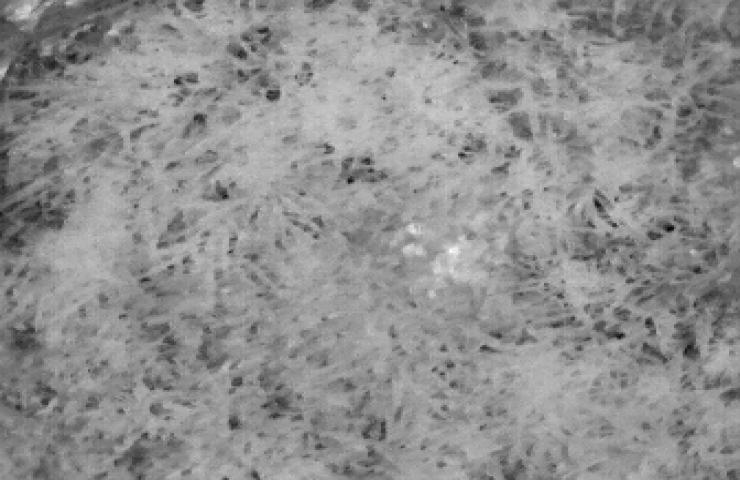landmines: (395, 206, 505, 288)
